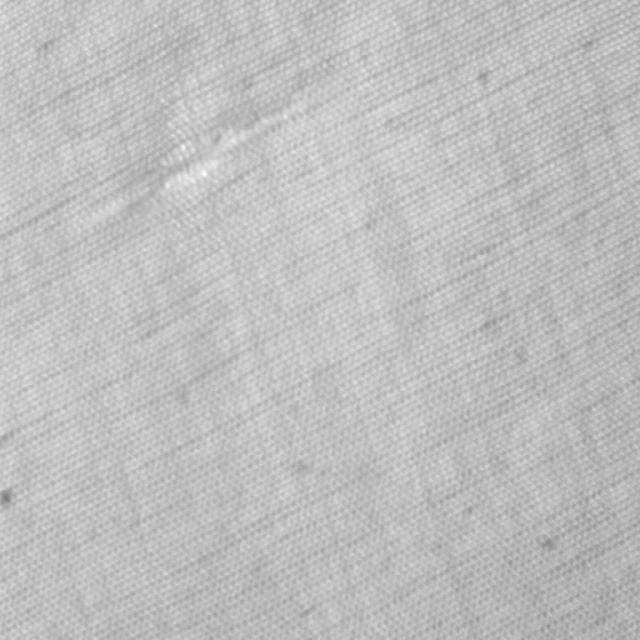thread error: (51, 72, 345, 234)
